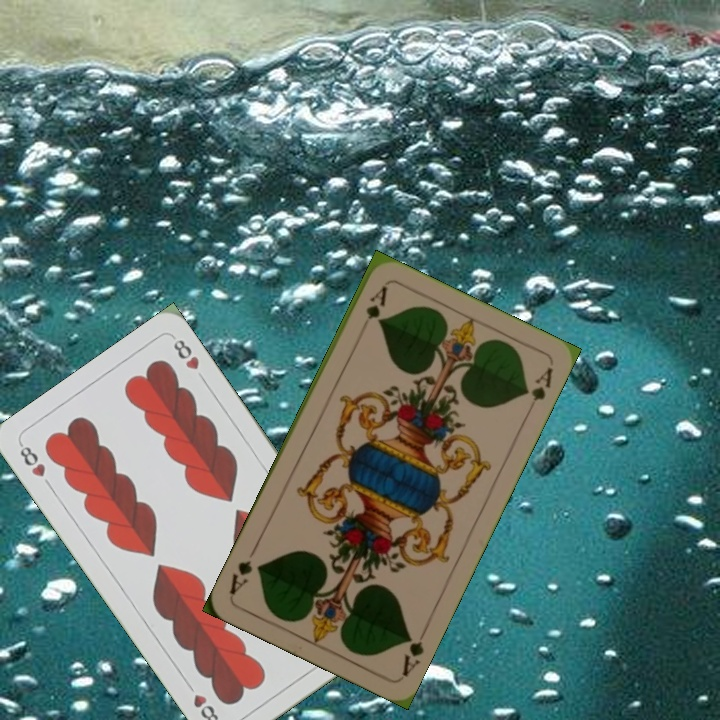GA: (355, 282, 390, 336), (398, 629, 427, 680)
H8: (15, 439, 49, 480)
